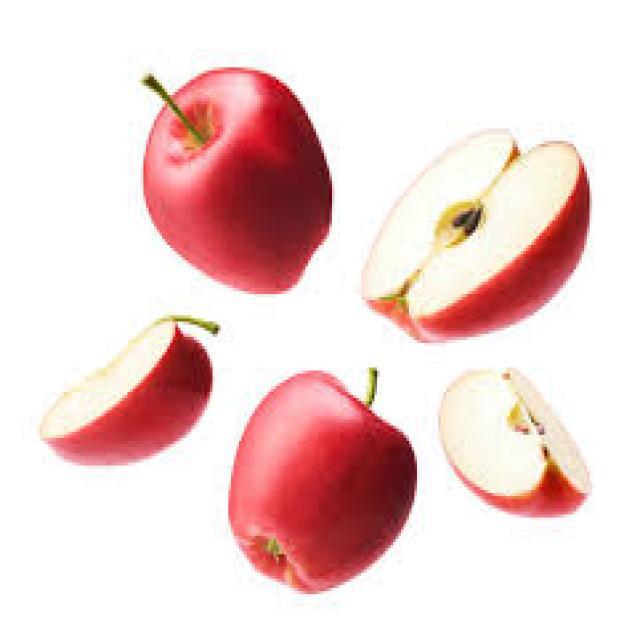Apple: (358, 128, 590, 338), (138, 69, 332, 293), (227, 366, 415, 594), (35, 316, 216, 468), (439, 368, 586, 518)
